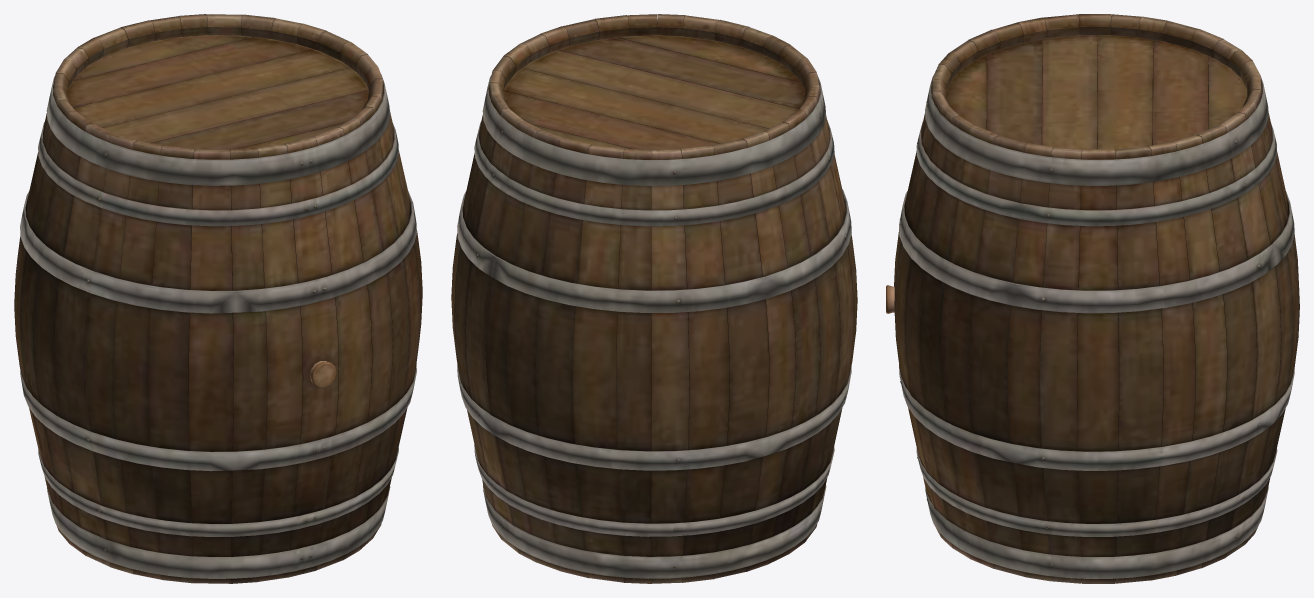
File: wine_barrel_01.glb
3 renders of one model, left to right at view 1: azimuth 30°, elevation 25°; view 2: azimuth 150°, elevation 25°; view 3: azimuth 270°, elevation 25°, orthographic.
Visible parts, largest first — view 1: wine_barrel_01, wine_barrel_01_Lid, wine_barrel_01_bung; view 2: wine_barrel_01, wine_barrel_01_Lid; view 3: wine_barrel_01, wine_barrel_01_Lid.
Boxes of the visible parts, box(x1,y1,x2,y2) form: wine_barrel_01: box(14, 14, 422, 583); wine_barrel_01_Lid: box(67, 35, 368, 149); wine_barrel_01_bung: box(310, 361, 336, 388); wine_barrel_01: box(451, 14, 857, 583); wine_barrel_01_Lid: box(503, 35, 805, 152); wine_barrel_01: box(894, 14, 1299, 583); wine_barrel_01_Lid: box(946, 35, 1247, 149).
Bounding box in the file's own units: 0.7419 × 0.8704 × 0.756.
Materials: 1 (1 with a texture image).
